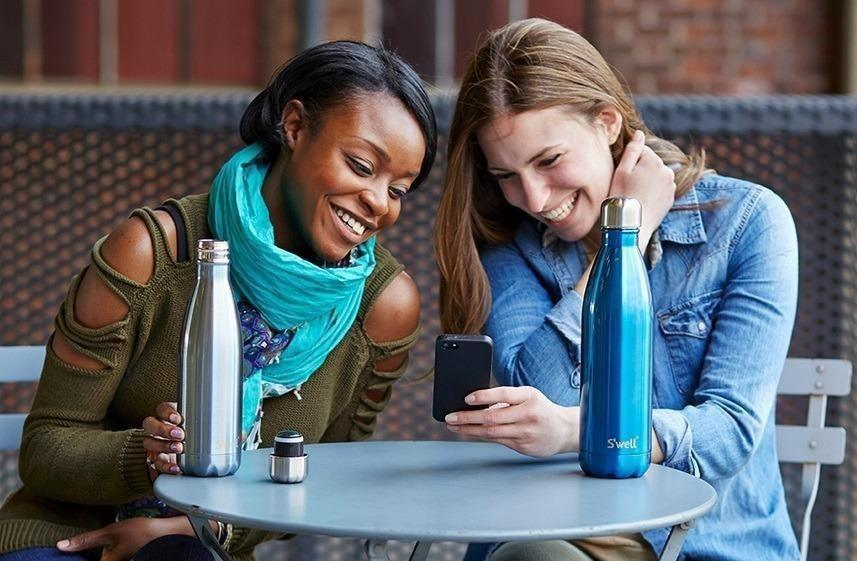gym bottle: (578, 195, 655, 481), (176, 238, 244, 478)
